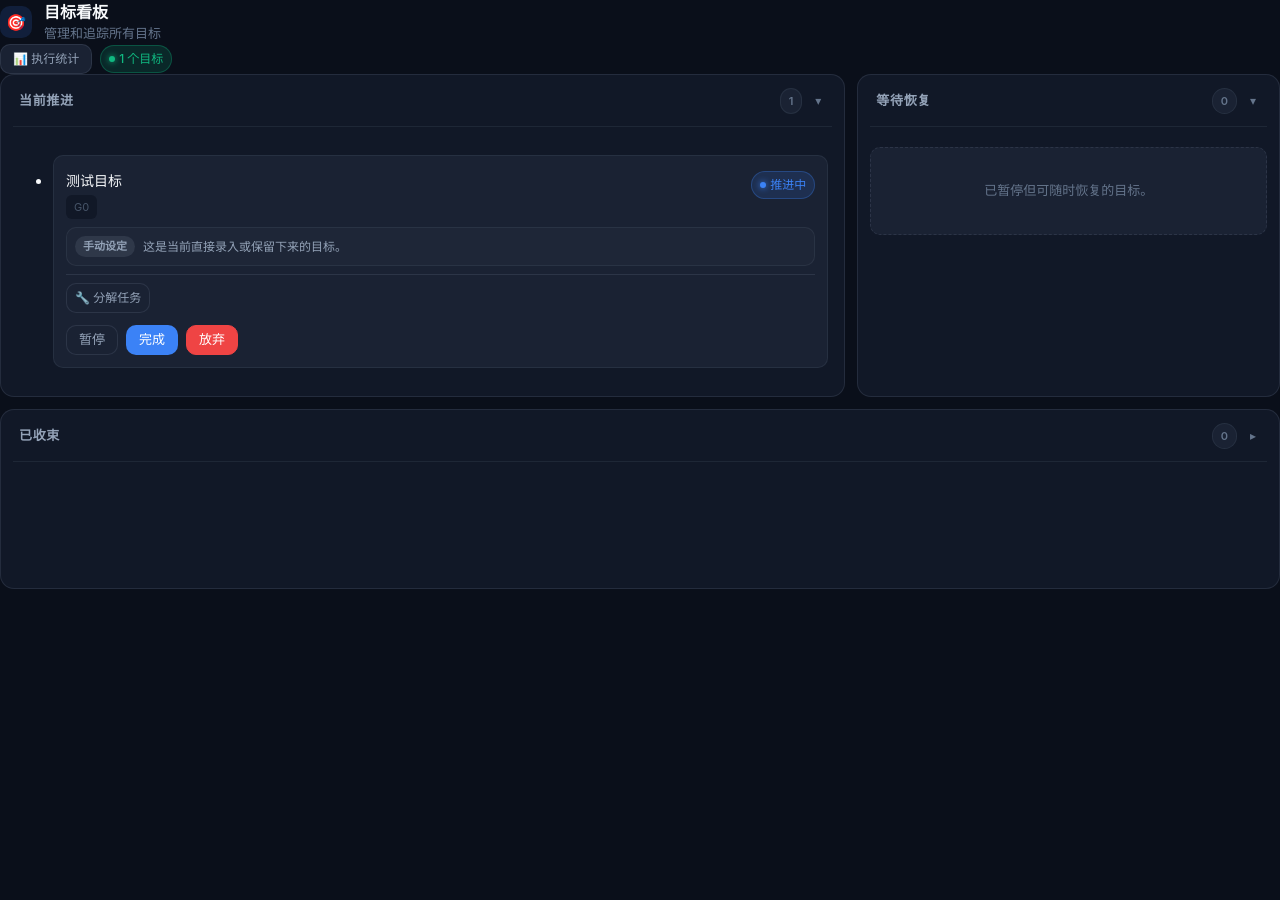
Test case: can cancel confirmation modal
Click the button "放弃".
click(212, 340)  # box 186,325 -> 238,355
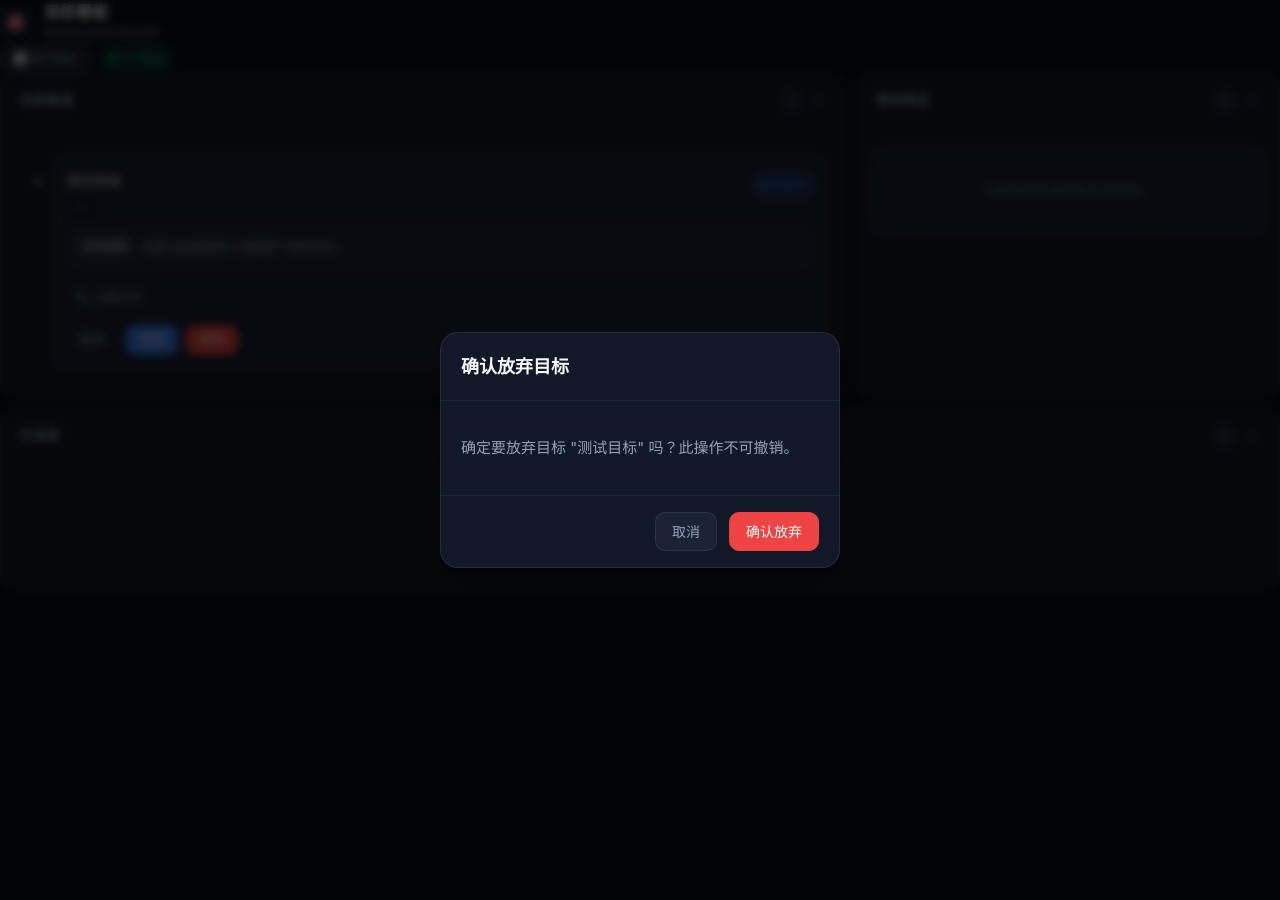
Expected: the heading "确认放弃目标" is shown, 461,356 -> 569,377
Click the button "取消".
click(686, 532)  # box 655,512 -> 717,551
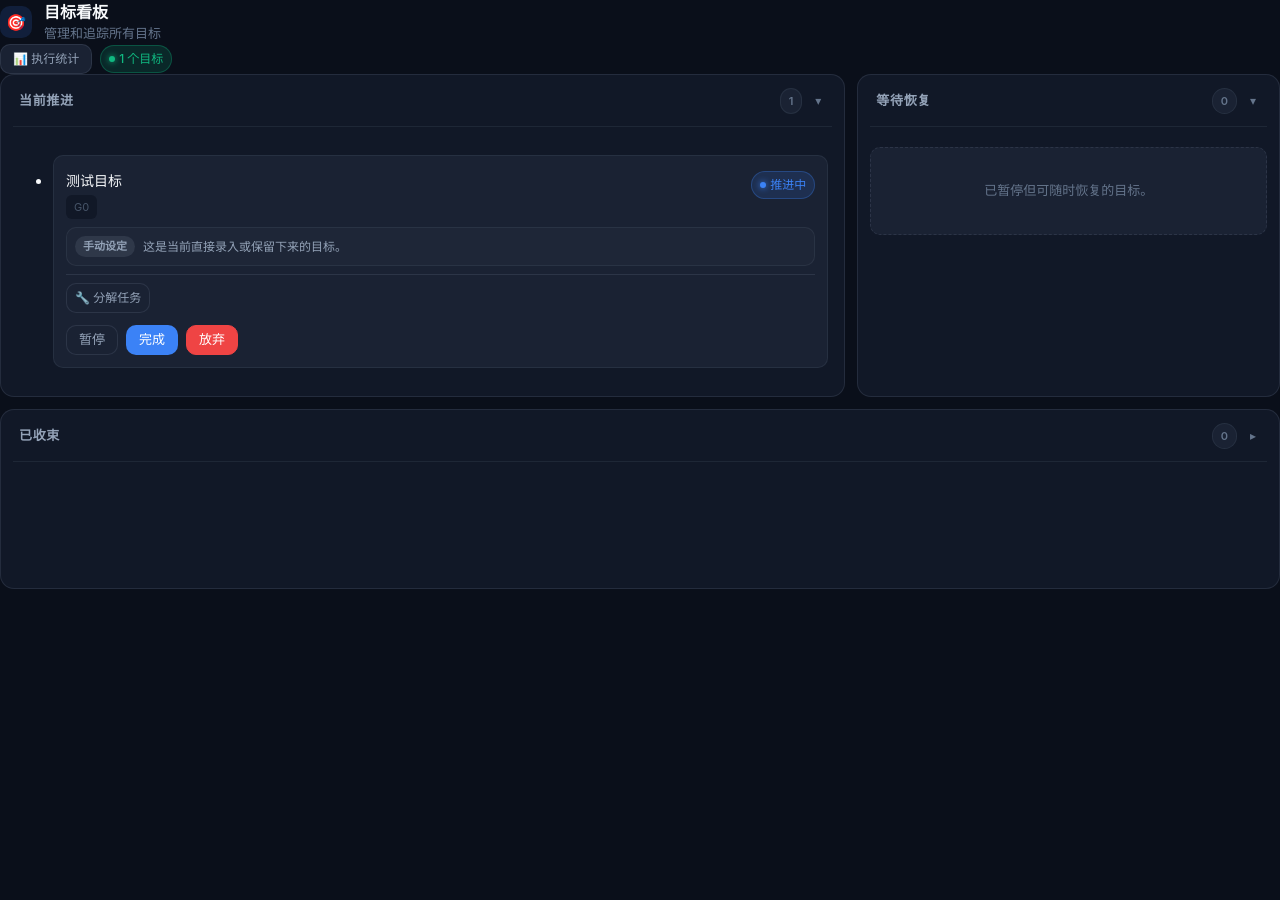
Expected: the heading "确认放弃目标" is gone
